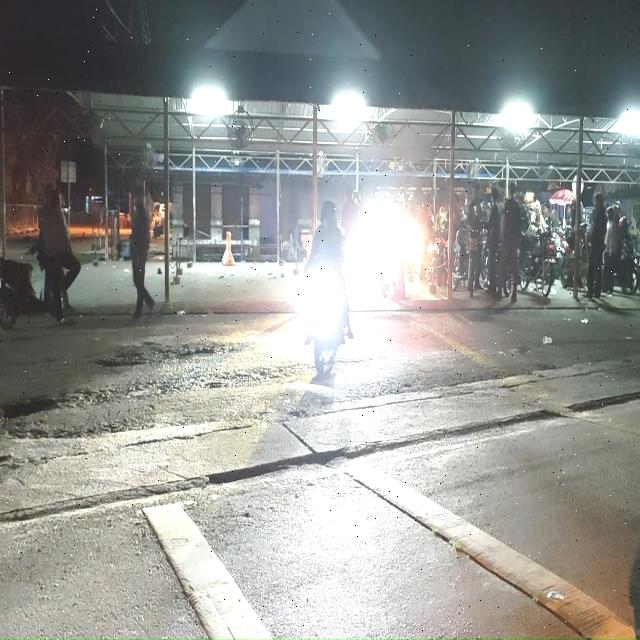Golongan II: (303, 270, 347, 379), (0, 258, 48, 329), (518, 230, 552, 298), (558, 222, 590, 288), (613, 233, 640, 295), (452, 228, 469, 291), (468, 229, 481, 297), (432, 232, 448, 287)
